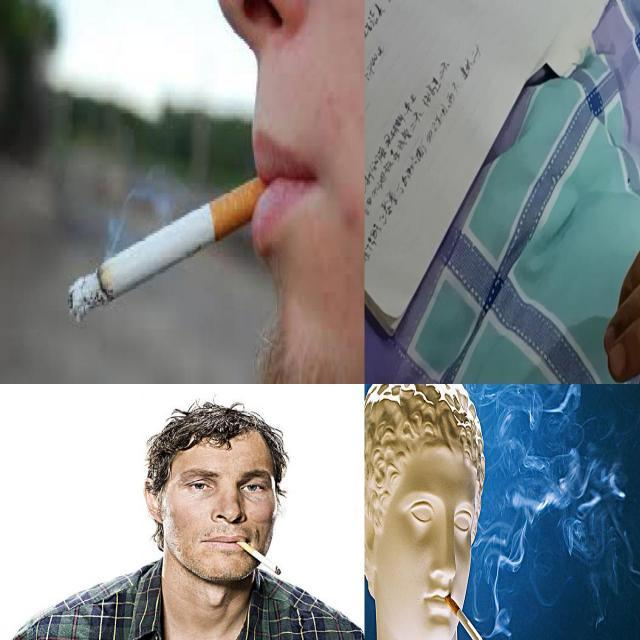cigarette: (68, 174, 274, 324), (444, 594, 490, 640), (236, 539, 284, 577)
